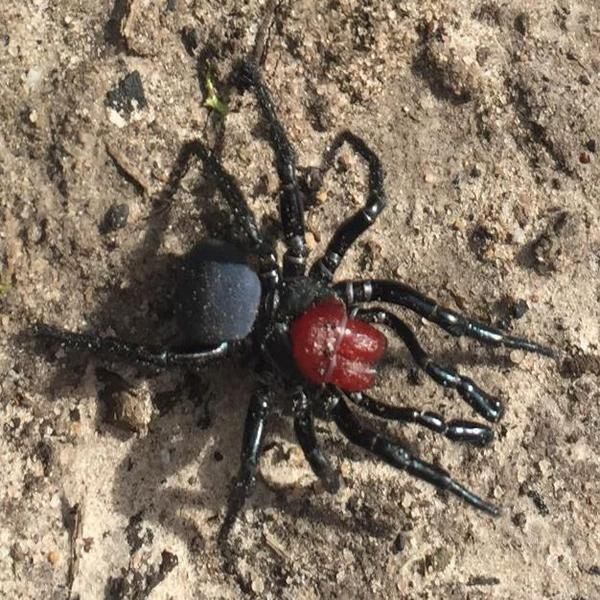Red Headed Mouse Spider: (68, 72, 507, 516)
